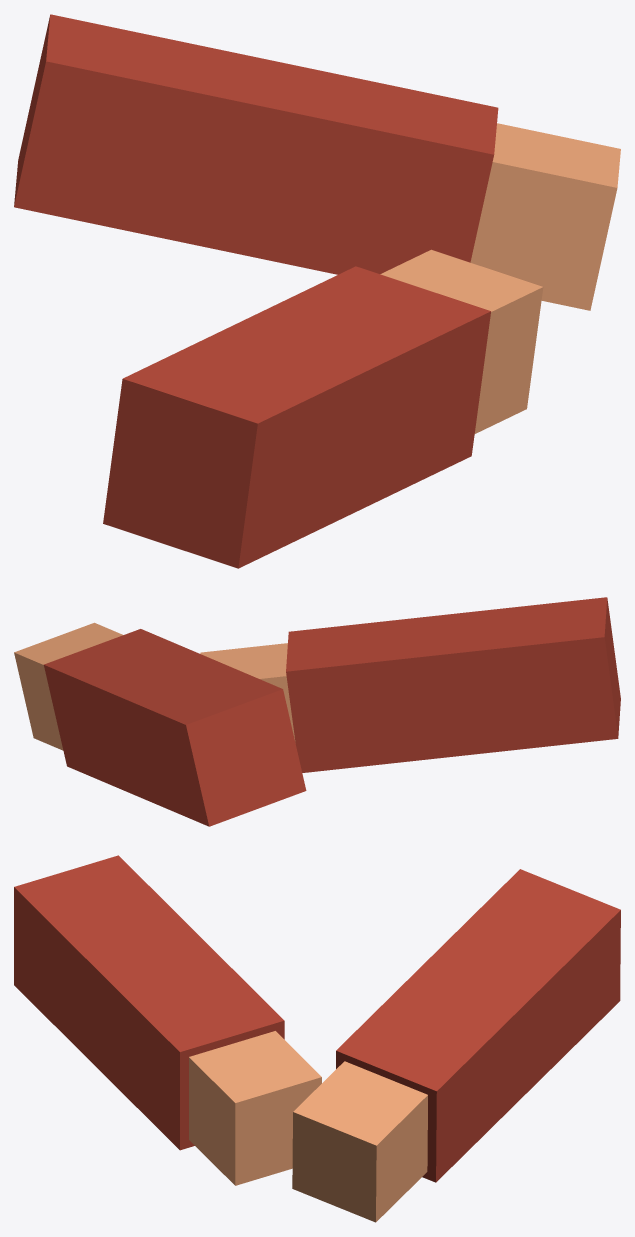
File: hands.gltf
The picture shows the model from 3 angles, top to bottom: view 1: azimuth 30°, elevation 25°; view 2: azimuth 150°, elevation 25°; view 3: azimuth 270°, elevation 25°; orthographic projection. The views are drawn at different scales.
Visible parts, largest first — view 1: Cube.001, Cube; view 2: Cube, Cube.001; view 3: Cube.001, Cube.
Boxes of the visible parts, bbox=[...] form: Cube.001: bbox=[14, 14, 620, 310]; Cube: bbox=[103, 249, 543, 568]; Cube: bbox=[200, 597, 620, 772]; Cube.001: bbox=[14, 622, 306, 826]; Cube.001: bbox=[292, 869, 620, 1222]; Cube: bbox=[14, 855, 321, 1185].
Bounding box in the file's own units: 12.09 × 4.69 × 12.27.
